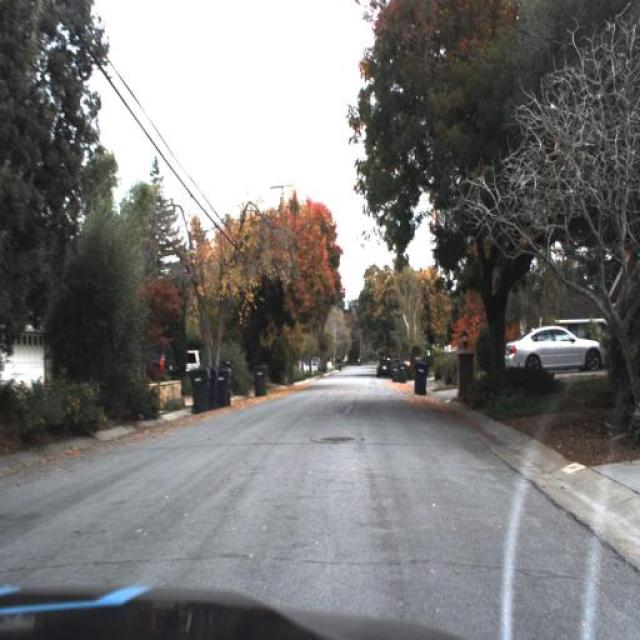car: (497, 314, 605, 378), (140, 328, 176, 380), (180, 347, 204, 372)
